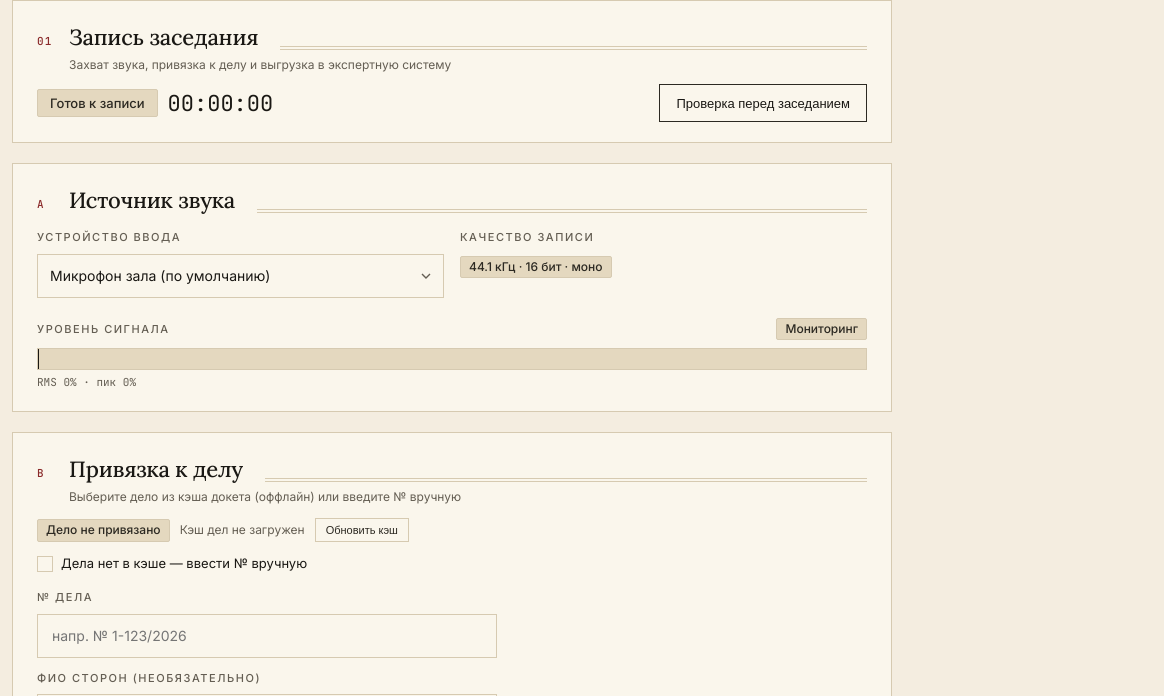
Test: RecordScreen › привязывает дело к стартовавшей сессии (ручной ввод → bind_session_case)
Expected: the text "Готов к записи" is shown, [37,89,158,117]
Note: Кэш пуст (record_count: 0) → пикер уже в режиме ручного ввода.
Type "№ 7-7/2026" into the field labelled "№ дела" at (267, 636), box [38,615,496,657]
(page scrolled)
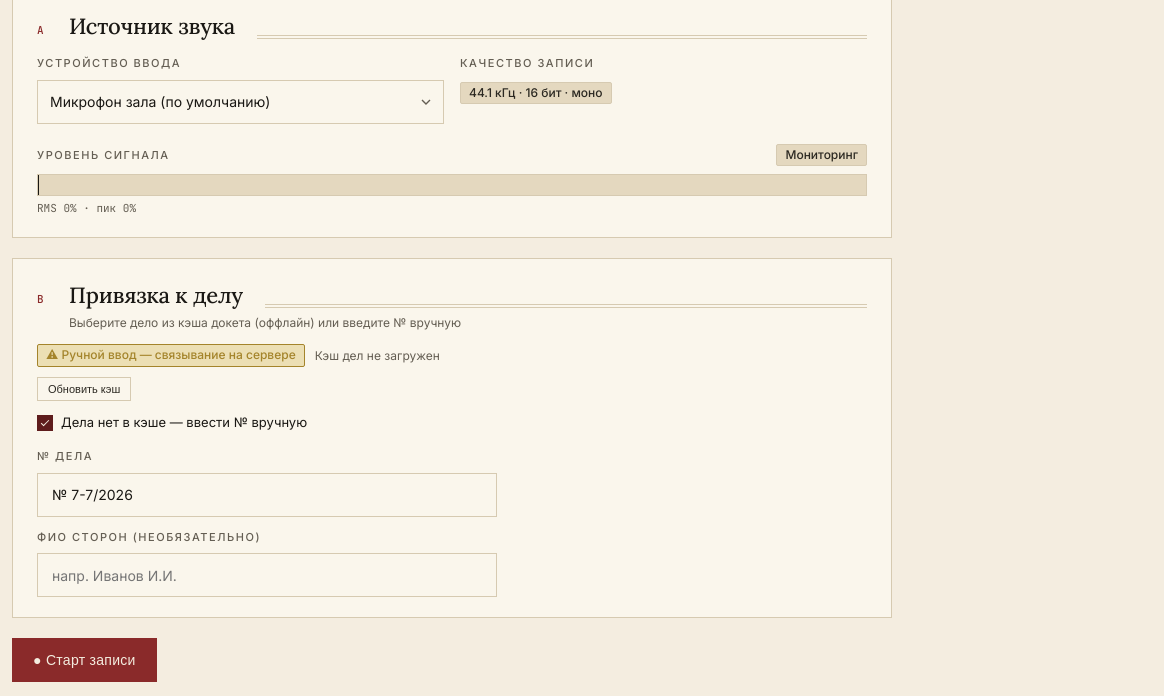
Note: Старт записи привязывает выбранное дело к новой сессии.
Click the button "● Старт записи" at (84, 660), box [12,638,157,682]
(page scrolled)
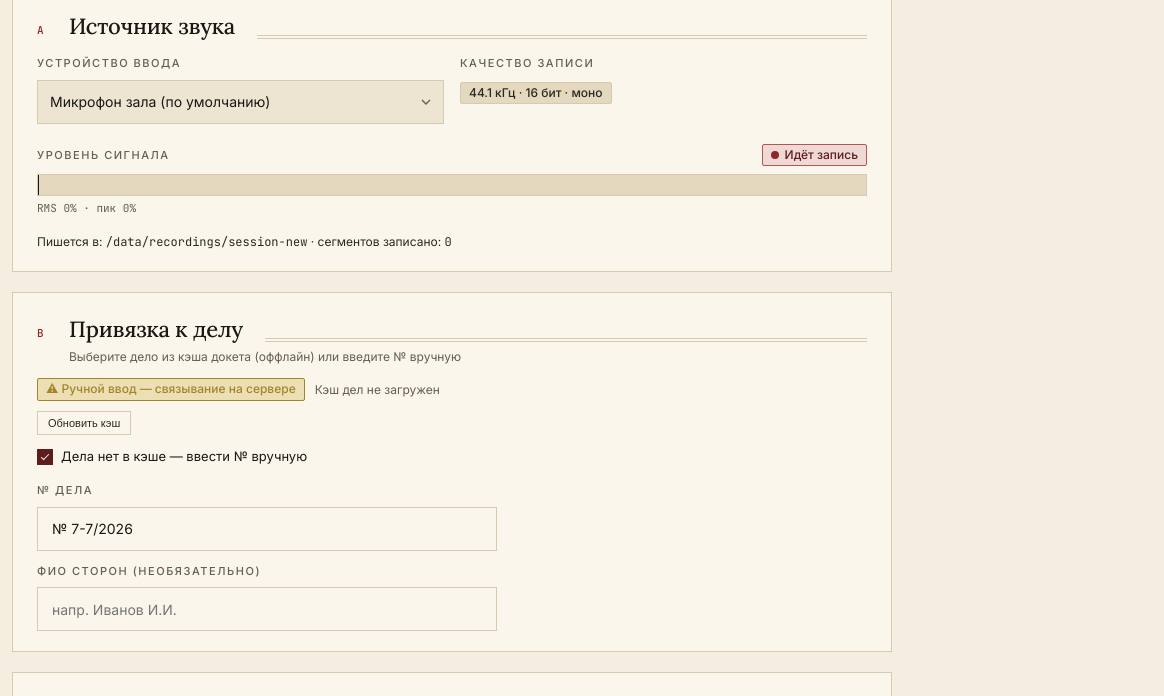
Expected: the text "/data/recordings/session-new" is shown, [106,234,307,250]
